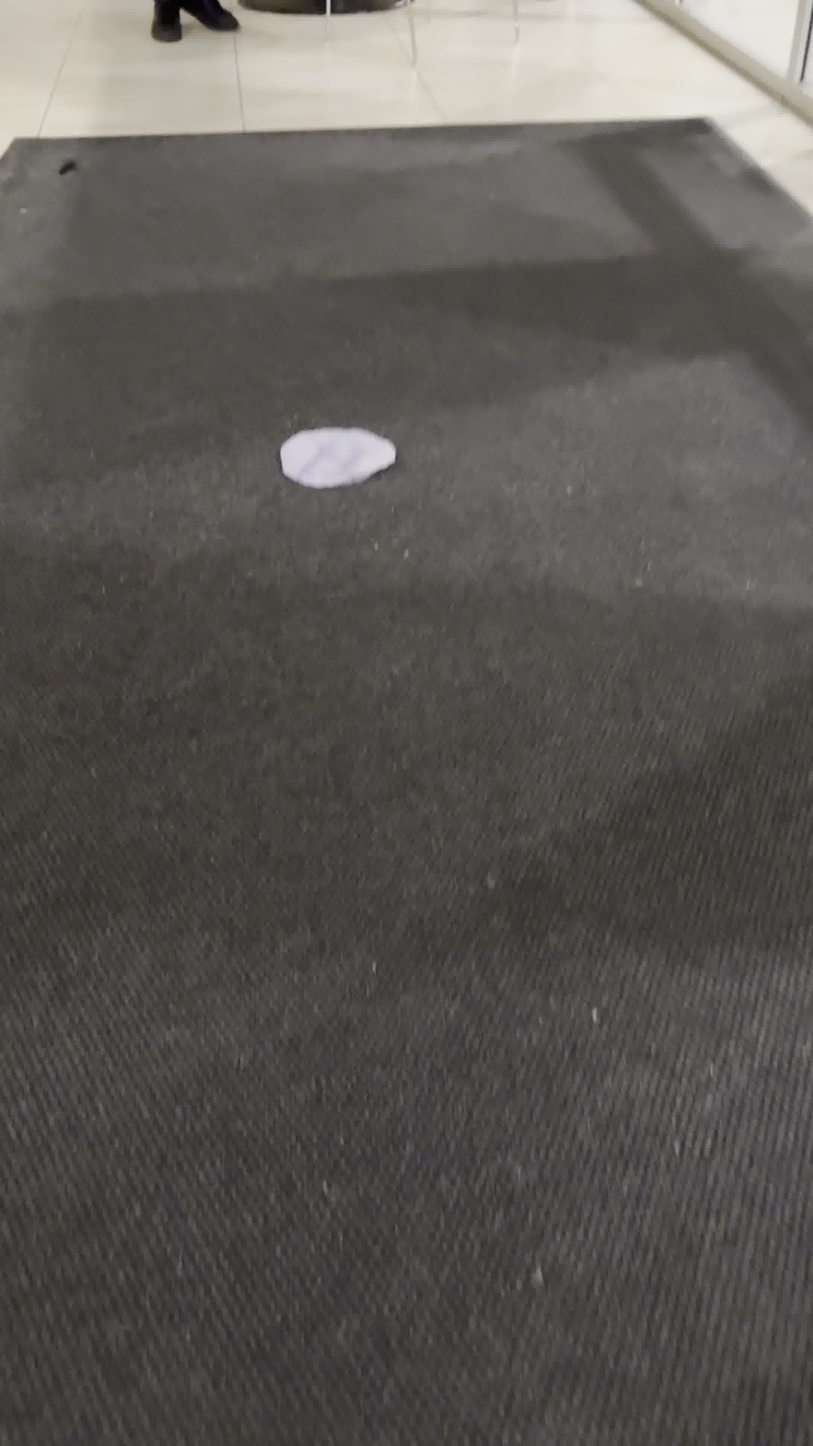Target: (279, 427, 403, 491)
